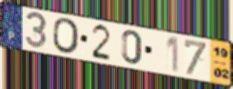0: (120, 29, 143, 66)
1: (164, 35, 179, 74)
2: (91, 23, 113, 62)
3: (24, 11, 49, 52)
7: (183, 39, 208, 77)
O: (51, 17, 81, 56)
